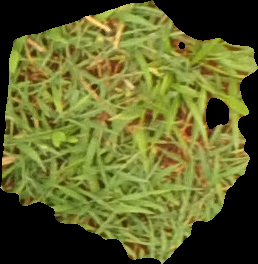grass: (1, 1, 256, 262)
